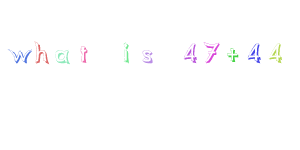+: (223, 45, 245, 68)
4: (175, 36, 203, 67), (266, 34, 290, 70), (243, 34, 266, 70)
7: (199, 35, 223, 68)
a: (52, 44, 74, 68)
h: (31, 37, 53, 66)
i: (112, 37, 137, 70)
s: (137, 40, 160, 69)
t: (74, 34, 96, 68)
w: (3, 37, 34, 70)
